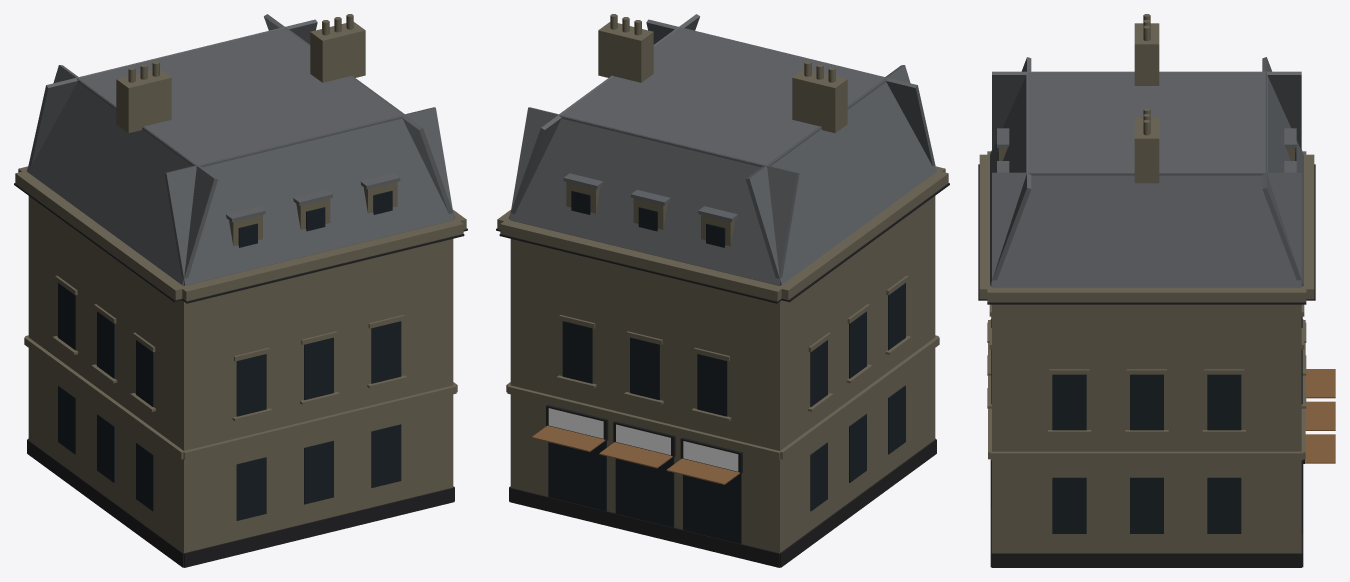
Rendered from B_PARIS_CAFE.glb.
3 renders of one model, left to right at view 1: azimuth 30°, elevation 25°; view 2: azimuth 150°, elevation 25°; view 3: azimuth 270°, elevation 25°, orthographic.
Parts seen in each view (by area): view 1: concreteProp_0, roofMetal_5, glass_2, tread_1, propBrick_6; view 2: concreteProp_0, roofMetal_5, glass_2, tread_1, wood_4, citySign_3, propBrick_6; view 3: concreteProp_0, roofMetal_5, glass_2, tread_1, wood_4.
Part boxes in pixels (left/top/right/bottom): concreteProp_0: left=15, top=22, right=466, bottom=553; roofMetal_5: left=26, top=14, right=455, bottom=285; glass_2: left=58, top=190, right=401, bottom=520; tread_1: left=14, top=183, right=467, bottom=567; propBrick_6: left=128, top=14, right=353, bottom=82; concreteProp_0: left=497, top=22, right=948, bottom=553; roofMetal_5: left=508, top=14, right=937, bottom=285; glass_2: left=548, top=190, right=905, bottom=543; tread_1: left=496, top=183, right=949, bottom=567; wood_4: left=532, top=425, right=739, bottom=484; citySign_3: left=548, top=408, right=738, bottom=471; propBrick_6: left=610, top=14, right=835, bottom=82; concreteProp_0: left=979, top=23, right=1314, bottom=553; roofMetal_5: left=990, top=57, right=1303, bottom=286; glass_2: left=991, top=148, right=1302, bottom=534; tread_1: left=978, top=164, right=1315, bottom=567; wood_4: left=1305, top=369, right=1335, bottom=463.
Bounding box in the file's own units: 10.9 × 15.45 × 11.55.
